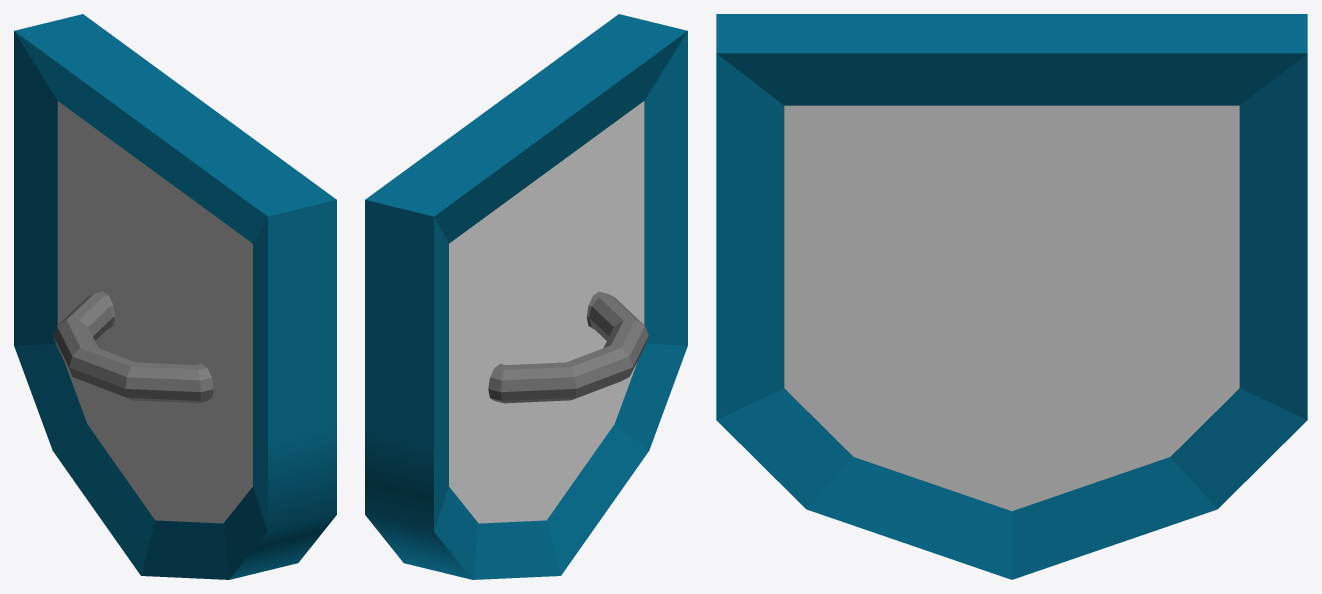
Rendered from SlashCardShieldV2.fbx.
3 views of the same model, side by side, from view 1: azimuth 30°, elevation 25°; view 2: azimuth 150°, elevation 25°; view 3: azimuth 270°, elevation 25° (orthographic). The views are drawn at different scales.
Parts seen in each view (by area): view 1: pCube3; view 2: pCube3; view 3: pCube3.
Part boxes in pixels (x1,y1,x2,y2): pCube3: (14, 14, 336, 579); pCube3: (365, 14, 687, 579); pCube3: (716, 14, 1307, 579).
Bounding box in the file's own units: 4.21 × 12.9 × 13.12.
